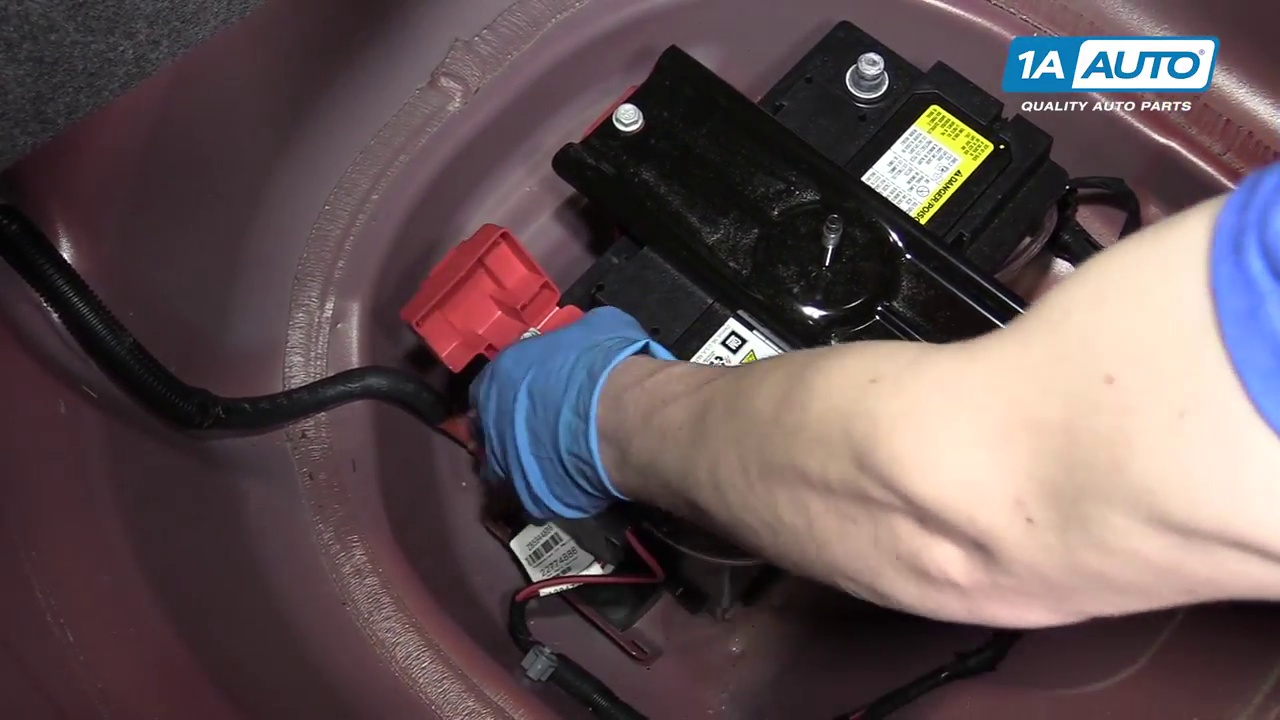battery: (535, 32, 1055, 386)
neg_disconnected: (826, 36, 903, 123)
pos_touched: (415, 226, 643, 464)
